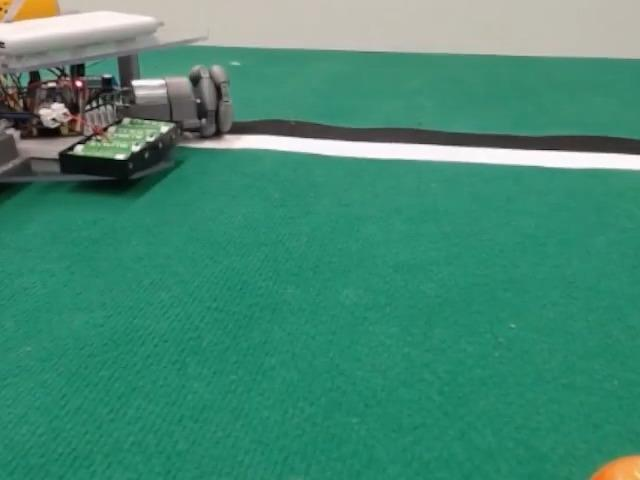Ball: (590, 456, 639, 479)
